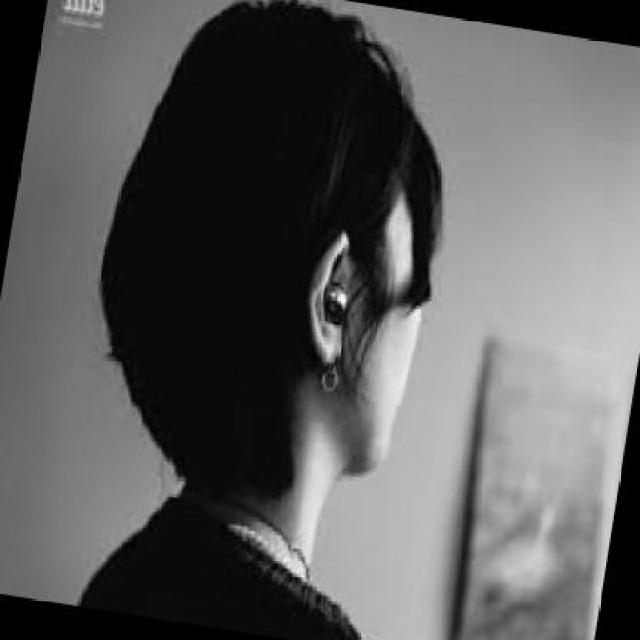earphone: (313, 260, 376, 335)
